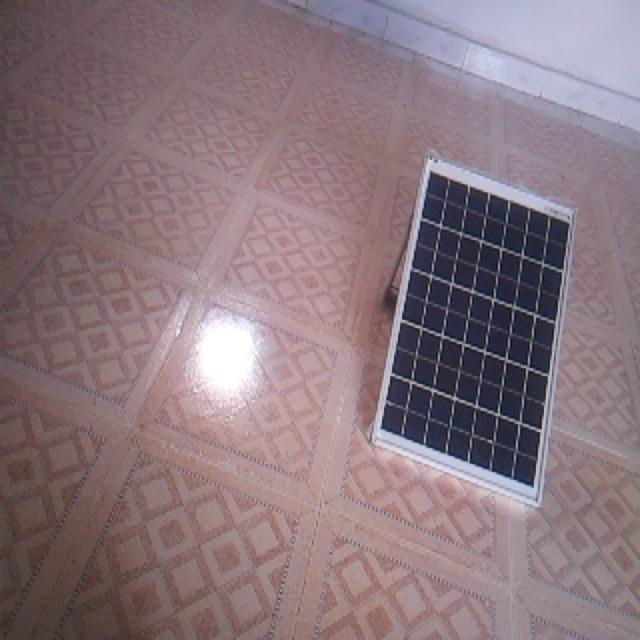Normal Solar Panel: (373, 153, 577, 507)
